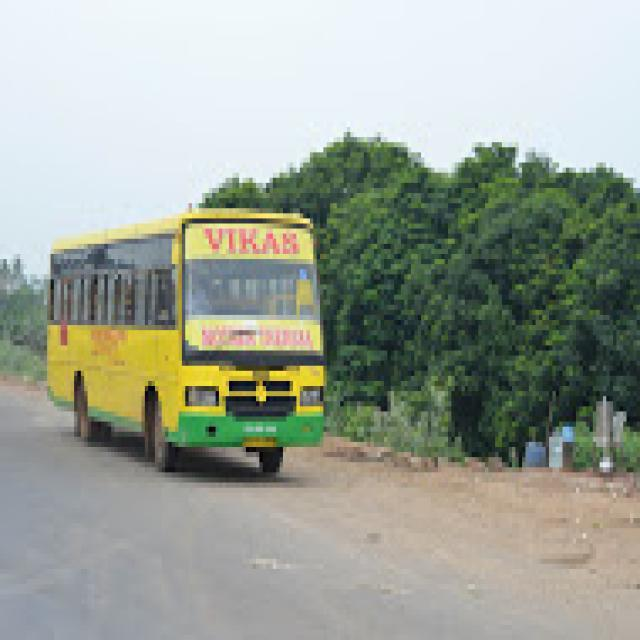bus_front: (36, 202, 334, 470)
